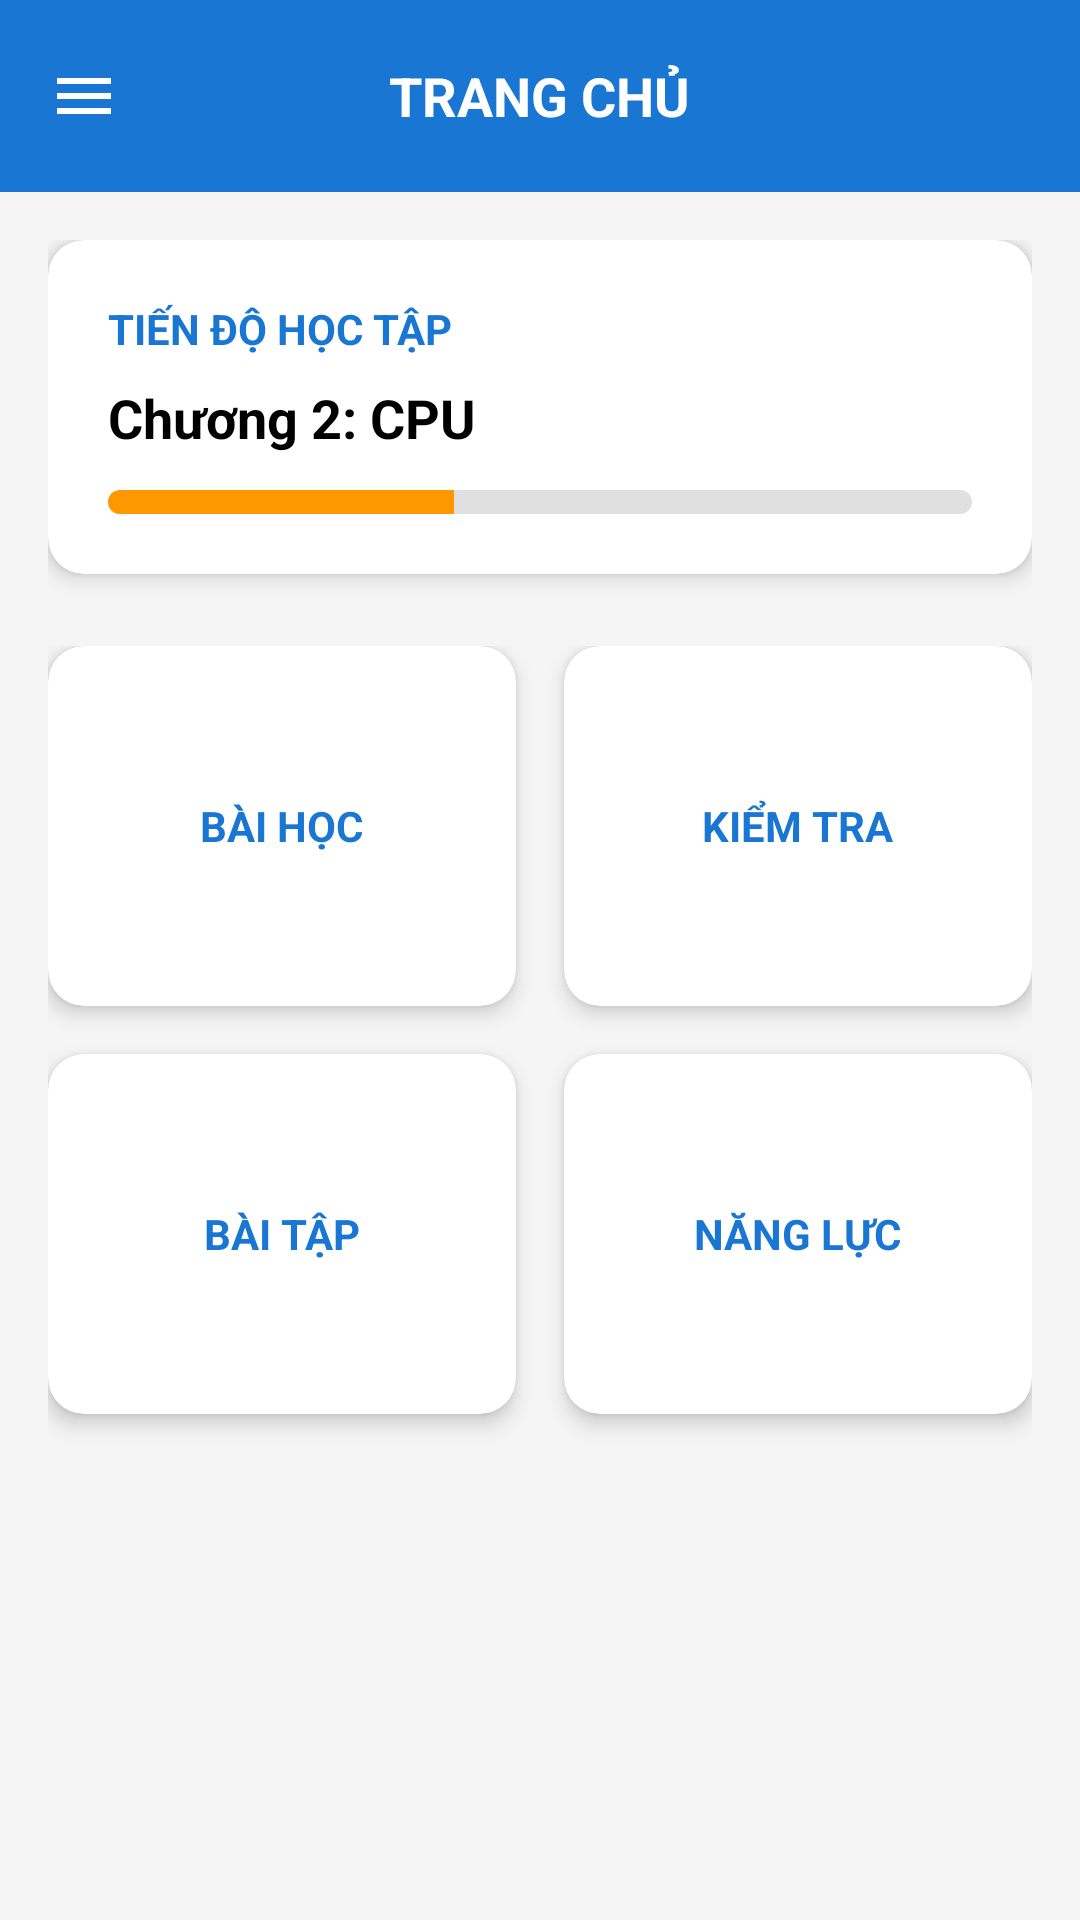

Point at icon controls on the screen. Image size 1080px×1920px, points as [x,y].
Menu: [84,96]
